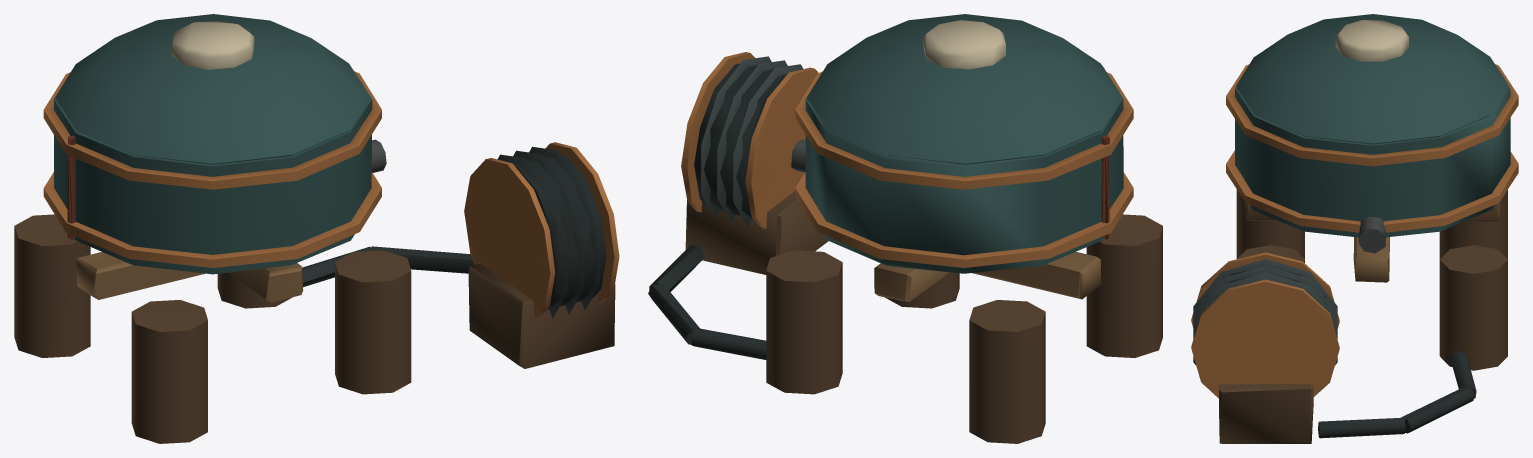
The model's file is water_tank_a_lod1.glb.
3 renders of one model, left to right at view 1: azimuth 30°, elevation 25°; view 2: azimuth 150°, elevation 25°; view 3: azimuth 270°, elevation 25°, orthographic. The views are drawn at different scales.
Visible parts, largest first — view 1: Surface.001; view 2: Surface.001; view 3: Surface.001.
Part boxes in pixels (x1,y1,x2,y2): Surface.001: [14, 14, 619, 443]; Surface.001: [648, 14, 1162, 443]; Surface.001: [1191, 14, 1518, 443].
Size of the model in its own units: 4.32 by 2.89 by 3.07.
